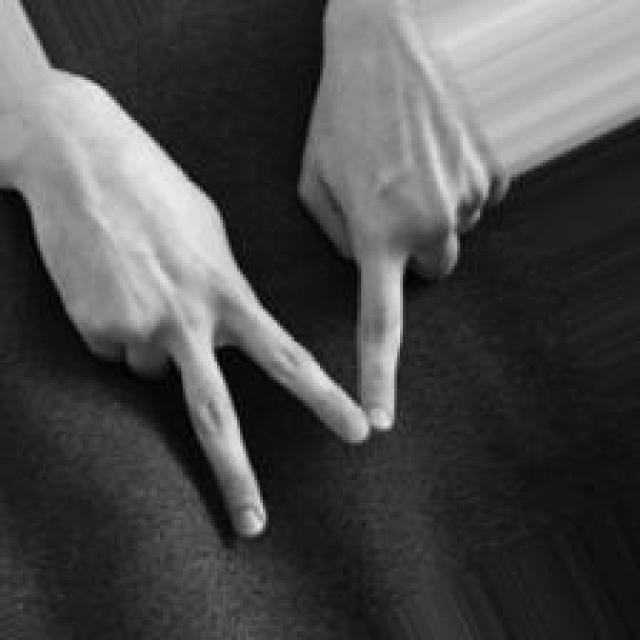N: (29, 76, 508, 546)
